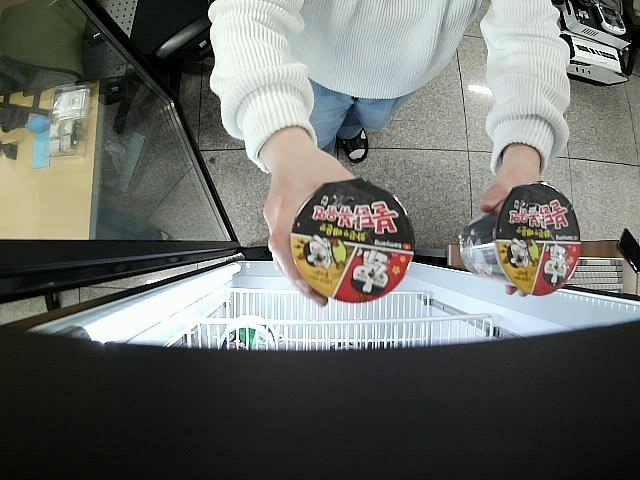08_buldak_S: (288, 179, 412, 304), (461, 184, 582, 292)
